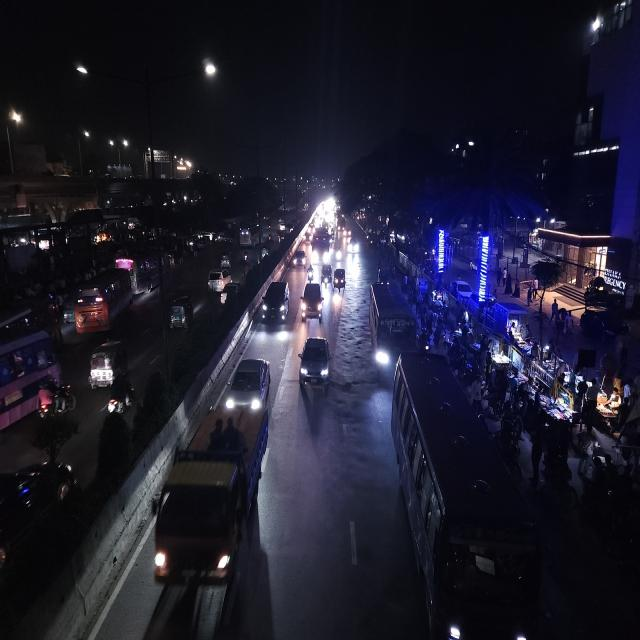bus: (390, 347, 548, 640), (366, 277, 414, 373), (72, 269, 137, 339)
car: (1, 461, 76, 569), (222, 354, 277, 413), (297, 332, 333, 389), (258, 278, 292, 322), (300, 281, 324, 324), (448, 274, 476, 302), (204, 267, 228, 291), (220, 281, 240, 305), (347, 235, 362, 256), (292, 249, 306, 267)
cng: (85, 342, 126, 388), (166, 296, 194, 334), (321, 262, 334, 288), (334, 268, 346, 293)
motorcycle: (34, 374, 74, 424), (103, 372, 138, 420), (304, 264, 314, 286), (240, 248, 251, 265)
truck: (155, 399, 273, 603), (312, 232, 329, 262)
